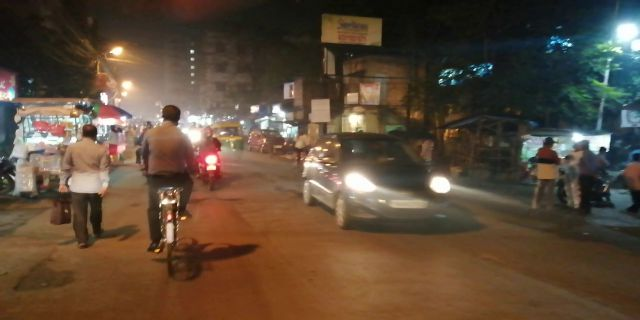Car: (302, 132, 461, 232)
Cycle: (141, 107, 191, 281)
